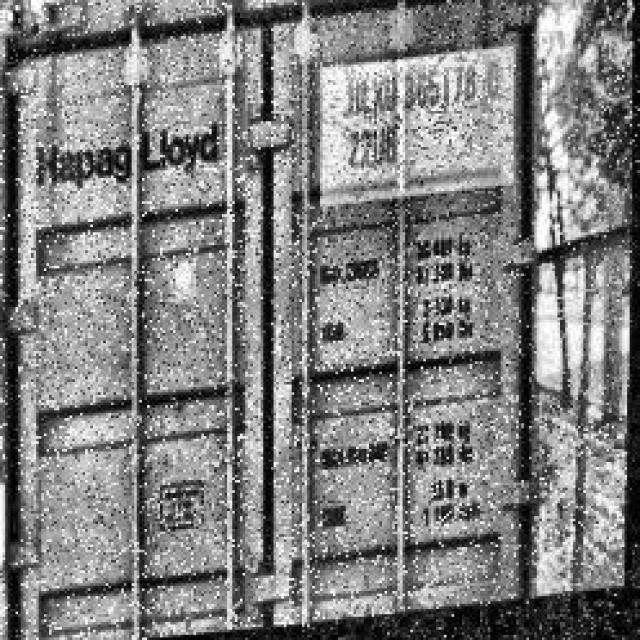ISO: (337, 124, 400, 168)
container_number: (330, 63, 507, 110)
